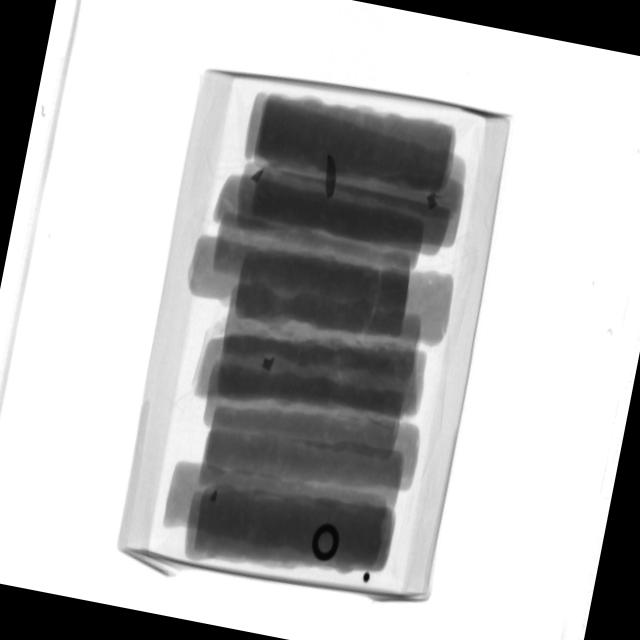ym: (310, 520, 345, 566), (321, 154, 344, 200), (425, 191, 443, 216), (253, 166, 266, 184), (210, 490, 221, 506), (264, 356, 276, 369), (363, 571, 373, 585)
